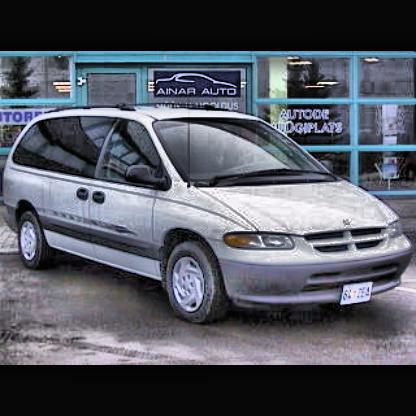Dodge Caravan Minivan 1997: (3, 111, 411, 328)
